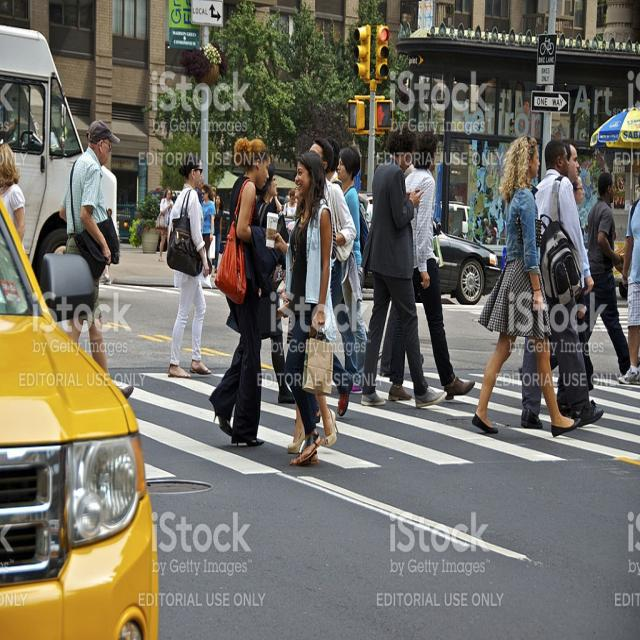body: (470, 135, 583, 439), (359, 120, 448, 411), (518, 135, 606, 429), (386, 130, 477, 403), (206, 137, 278, 450), (265, 148, 334, 468), (58, 118, 135, 401), (308, 136, 358, 425), (581, 168, 637, 384), (165, 153, 212, 378), (252, 160, 292, 396), (336, 144, 368, 396), (618, 168, 640, 383), (0, 141, 28, 251), (200, 183, 217, 277), (154, 186, 175, 261), (561, 136, 581, 186), (212, 194, 224, 272), (473, 212, 502, 244), (328, 138, 342, 177), (573, 181, 585, 209), (196, 191, 203, 205), (107, 207, 113, 218), (211, 185, 218, 194)
